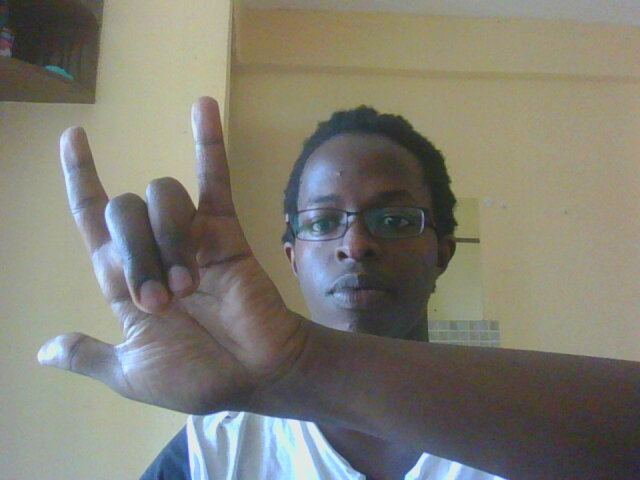I Love You: (18, 90, 347, 414)
